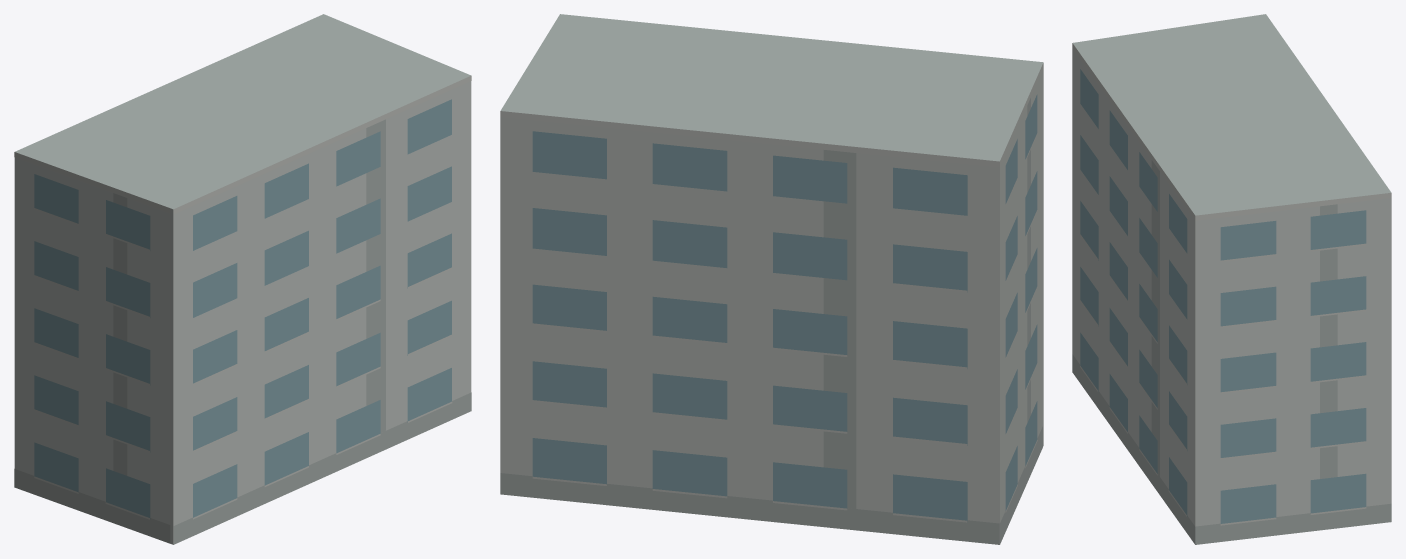
File: survey-upis-32813268.glb
3 renders of one model, left to right at view 1: azimuth 30°, elevation 25°; view 2: azimuth 150°, elevation 25°; view 3: azimuth 270°, elevation 25°, orthographic. The views are drawn at different scales.
Visible parts, largest first — view 1: survey-upis-32813268.tmp; view 2: survey-upis-32813268.tmp; view 3: survey-upis-32813268.tmp.
Boxes of the visible parts, <box> form: survey-upis-32813268.tmp: <box>14,14,471,544</box>; survey-upis-32813268.tmp: <box>500,14,1043,544</box>; survey-upis-32813268.tmp: <box>1072,14,1391,544</box>.
Size of the model in its own units: 20.03 by 15.25 by 13.4.
